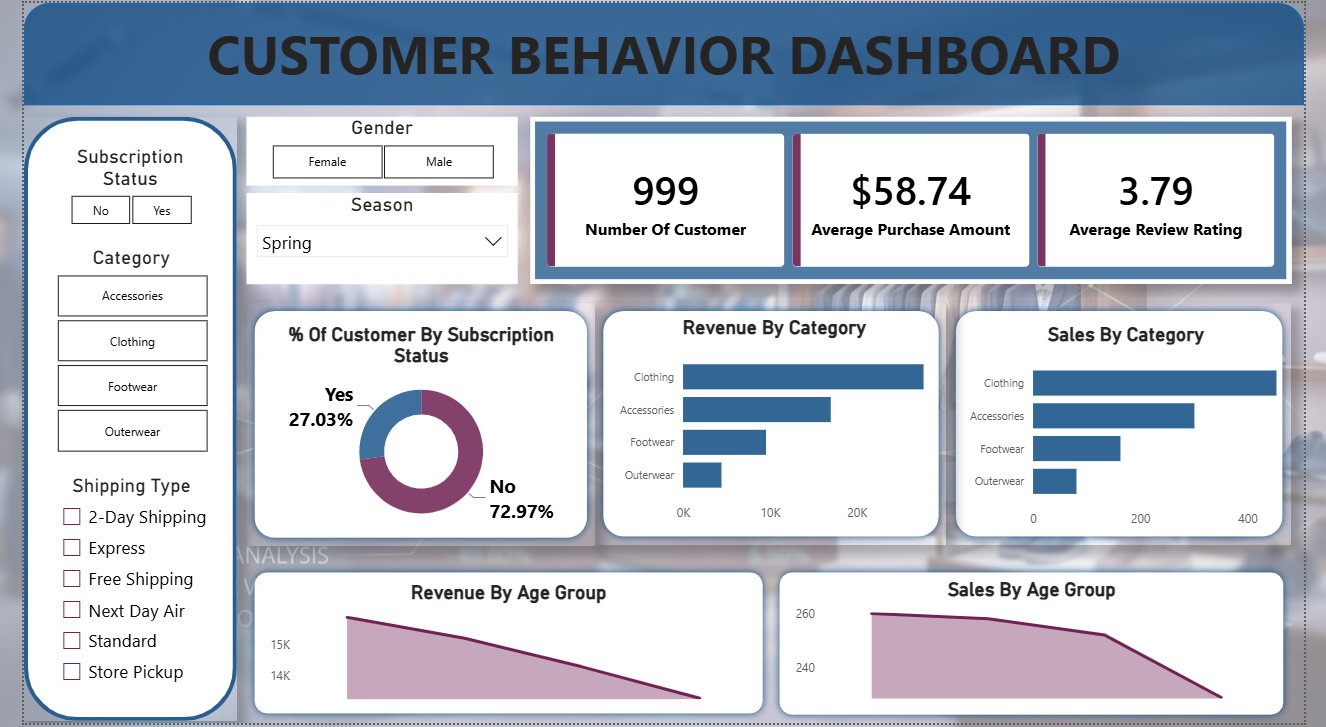

Layout of this report page (visuals, bound fields, positions):
{"tool":"powerbi","page":{"name":"Page 1","canvas":[1280,720],"ordinal":0},"visuals":[{"type":"cardVisual","fields":{"Data":["public customer.Number Of Customer","public customer.Average Purchase Amount","public customer.Average Review Rating"]},"box":[505.7,114.3,761.4,167.1],"z":0},{"type":"group","id":"g1","title":"Group 1","box":[747.1,561.4,520,158.6],"z":0,"group":"g6"},{"type":"shape","box":[0,0,1280,102.5],"z":1000},{"type":"areaChart","title":"Sales  By Age Group","fields":{"Category":["public customer.age_group"],"Y":["Count(public customer.customer_id)"]},"box":[765.5,575.1,482.9,125.7],"z":1000,"group":"g6"},{"type":"textbox","box":[0,8.8,1280,93.8],"z":2000},{"type":"shape","box":[222.9,300,348.6,242.9],"z":3000,"group":"g2"},{"type":"shape","box":[924.3,300,342.9,241.4],"z":3000},{"type":"shape","box":[222.9,561.4,524.3,157.1],"z":3000,"group":"g4"},{"type":"shape","box":[747.1,561.4,520,158.6],"z":3000,"group":"g1"},{"type":"shape","box":[0,114.3,212.9,604.3],"z":4000},{"type":"donutChart","title":"% Of Customer By Subscription Status","fields":{"Category":["public customer.subscription_status"],"Y":["CountNonNull(public customer.customer_id)"]},"box":[238,320.4,319.8,214.3],"z":4000,"group":"g2"},{"type":"shape","box":[571.4,300,351.4,241.4],"z":5000,"group":"g3"},{"type":"barChart","title":"Sales By Category","fields":{"Category":["public customer.category"],"Y":["Count(public customer.customer_id)"]},"box":[935.7,320,331.4,214.3],"z":5000},{"type":"slicer","title":"Subscription Status","fields":{"Values":["public customer.subscription_status"]},"box":[21.4,142.9,170,85.7],"z":6000},{"type":"slicer","title":"Category","fields":{"Values":["public customer.category"]},"box":[7.1,244.3,200,211.4],"z":7000},{"type":"barChart","title":"Revenue By Category","fields":{"Category":["public customer.category"],"Y":["Sum(public customer.purchase_amount)"]},"box":[586.7,314.3,328.5,214.3],"z":7000,"group":"g3"},{"type":"slicer","title":"Shipping Type","fields":{"Values":["public customer.shipping_type"]},"box":[25.7,471.4,162.9,221.4],"z":8000},{"type":"group","id":"g2","title":"Group 1","box":[222.9,300,348.6,242.9],"z":9000},{"type":"group","id":"g3","title":"Group 2","box":[571.4,300,351.4,241.4],"z":10000},{"type":"group","id":"g4","title":"Group 1","box":[222.9,561.4,524.3,157.1],"z":11000,"group":"g5"},{"type":"areaChart","title":"Revenue By Age Group","fields":{"Category":["public customer.age_group"],"Y":["Sum(public customer.purchase_amount)"]},"box":[241.7,579.3,486.7,122.6],"z":11001,"group":"g5"},{"type":"slicer","title":"Gender","fields":{"Values":["public customer.gender"]},"box":[222.9,114.3,271.4,68.6],"z":11002},{"type":"group","id":"g5","title":"Group 3","box":[222.9,561.4,524.3,157.1],"z":11003},{"type":"group","id":"g6","title":"Group 3","box":[747.1,561.4,520,158.6],"z":11004},{"type":"slicer","title":"Season","fields":{"Values":["public customer.season"]},"box":[222.9,190,271.4,91.4],"z":11005}]}

Visuals, with their boxes in screenshot pixels (x1, y1, x2, y2), scaled from the page's 1280x720 canvas onto the 1326x727 screenshot:
cardVisual - public customer.Number Of Customer x public customer.Average Purchase Amount: bbox=[524, 115, 1313, 284]
"Group 1" group: bbox=[774, 567, 1313, 726]
shape: bbox=[0, 0, 1325, 103]
"Sales  By Age Group" areaChart: bbox=[793, 581, 1293, 708]
textbox: bbox=[0, 9, 1325, 104]
shape: bbox=[231, 303, 592, 548]
shape: bbox=[958, 303, 1313, 547]
shape: bbox=[231, 567, 774, 725]
shape: bbox=[774, 567, 1313, 726]
shape: bbox=[0, 115, 221, 726]
"% Of Customer By Subscription Status" donutChart: bbox=[247, 324, 578, 540]
shape: bbox=[592, 303, 956, 547]
"Sales By Category" barChart: bbox=[969, 323, 1313, 539]
"Subscription Status" slicer: bbox=[22, 144, 198, 231]
"Category" slicer: bbox=[7, 247, 215, 460]
"Revenue By Category" barChart: bbox=[608, 317, 948, 534]
"Shipping Type" slicer: bbox=[27, 476, 195, 700]
"Group 1" group: bbox=[231, 303, 592, 548]
"Group 2" group: bbox=[592, 303, 956, 547]
"Group 1" group: bbox=[231, 567, 774, 725]
"Revenue By Age Group" areaChart: bbox=[250, 585, 755, 709]
"Gender" slicer: bbox=[231, 115, 512, 185]
"Group 3" group: bbox=[231, 567, 774, 725]
"Group 3" group: bbox=[774, 567, 1313, 726]
"Season" slicer: bbox=[231, 192, 512, 284]
